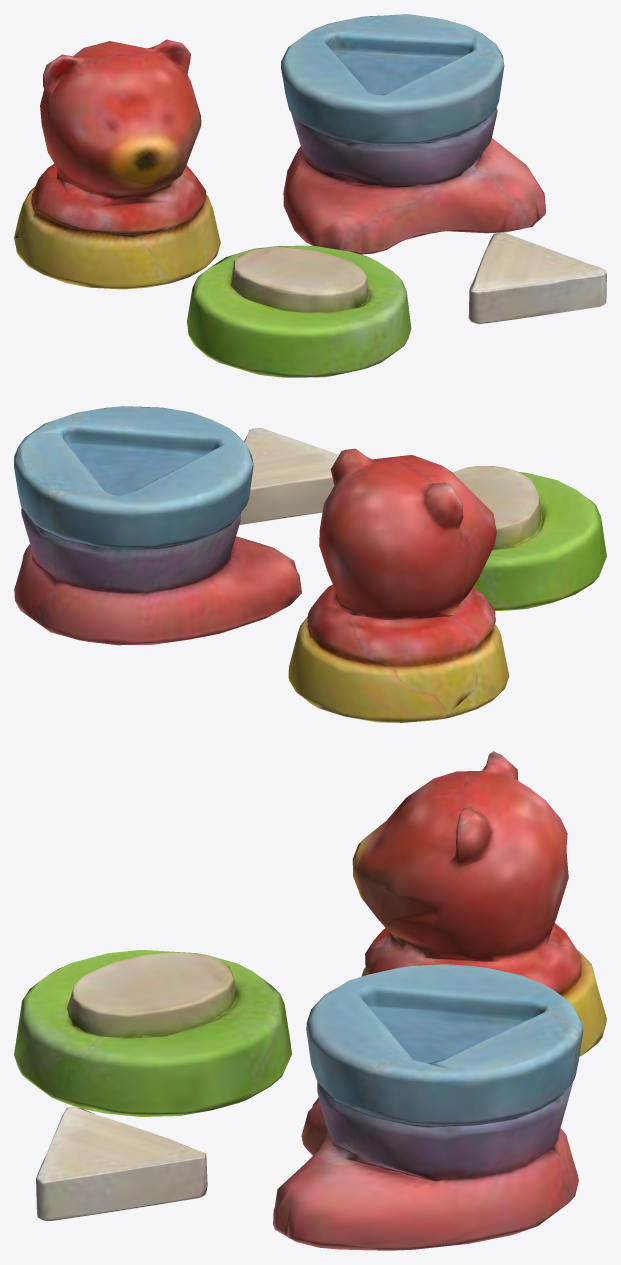
The model's file is gso_stacking_bear_v04kkggbn2a.glb.
3 renders of one model, top to bottom at view 1: azimuth 30°, elevation 25°; view 2: azimuth 150°, elevation 25°; view 3: azimuth 270°, elevation 25°, orthographic. The views are drawn at different scales.
Visible parts, largest first — view 1: z-up-to-y-up; view 2: z-up-to-y-up; view 3: z-up-to-y-up.
Part boxes in pixels (box(x1,y1,x2,y2)): z-up-to-y-up: box(14, 14, 606, 377); z-up-to-y-up: box(14, 406, 606, 722); z-up-to-y-up: box(14, 751, 606, 1250).
Bounding box in the file's own units: 0.2212 × 0.0935 × 0.2004.
Materials: 1 (1 with a texture image).
